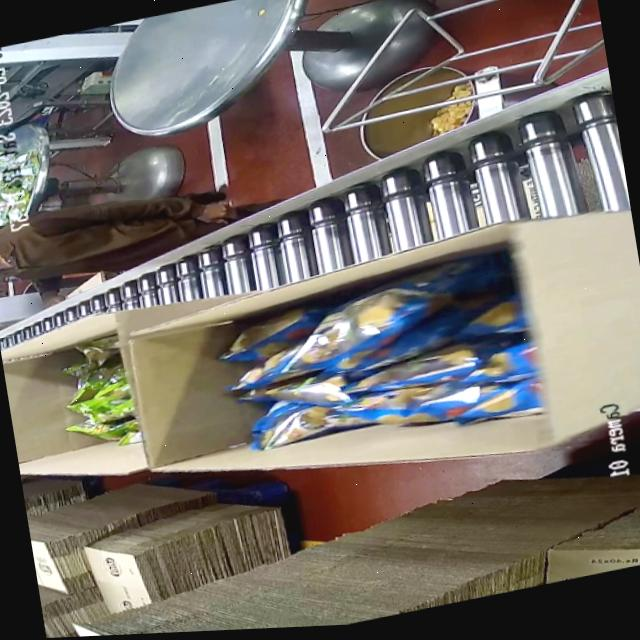PAPRIKA: (214, 258, 546, 470)
